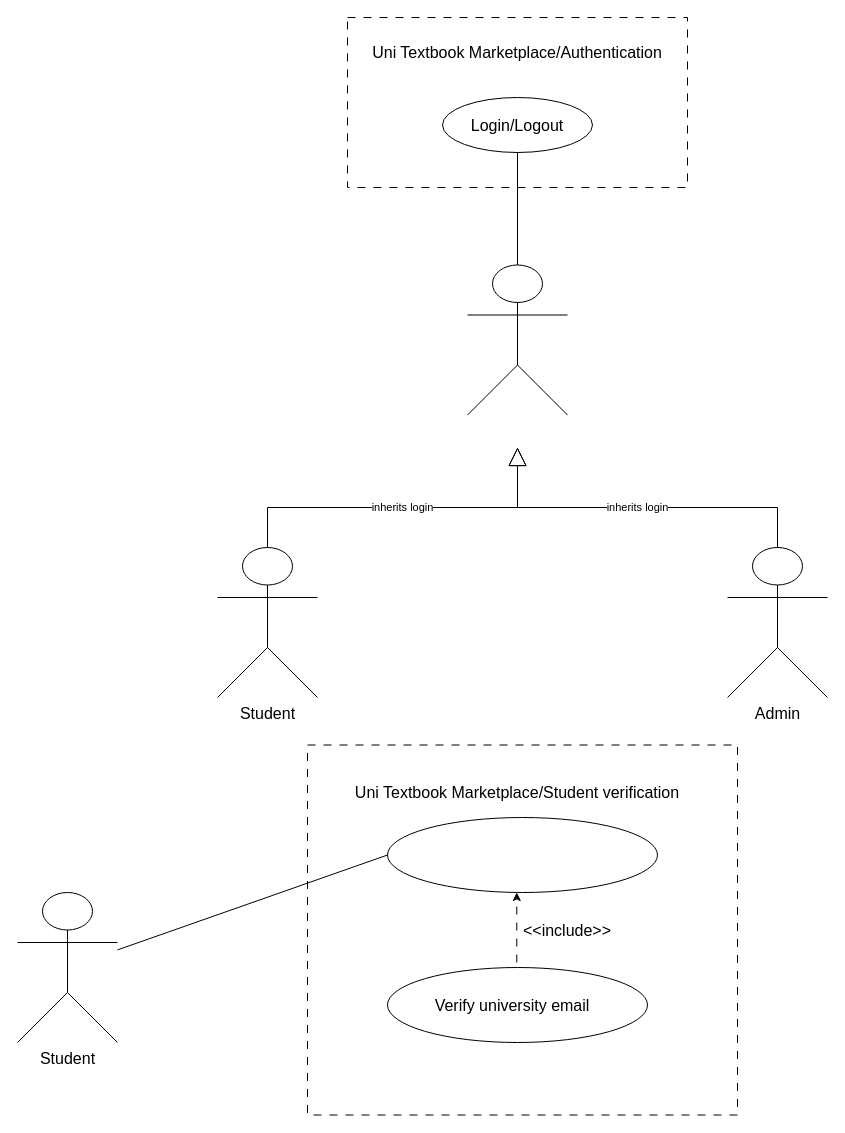
Image size: 845x1133. Some labels were removed from this diagram. The centre of each missing label's shape, as x and y in pixels:
Register as a student: (x=522, y=854)
User: (x=517, y=339)
